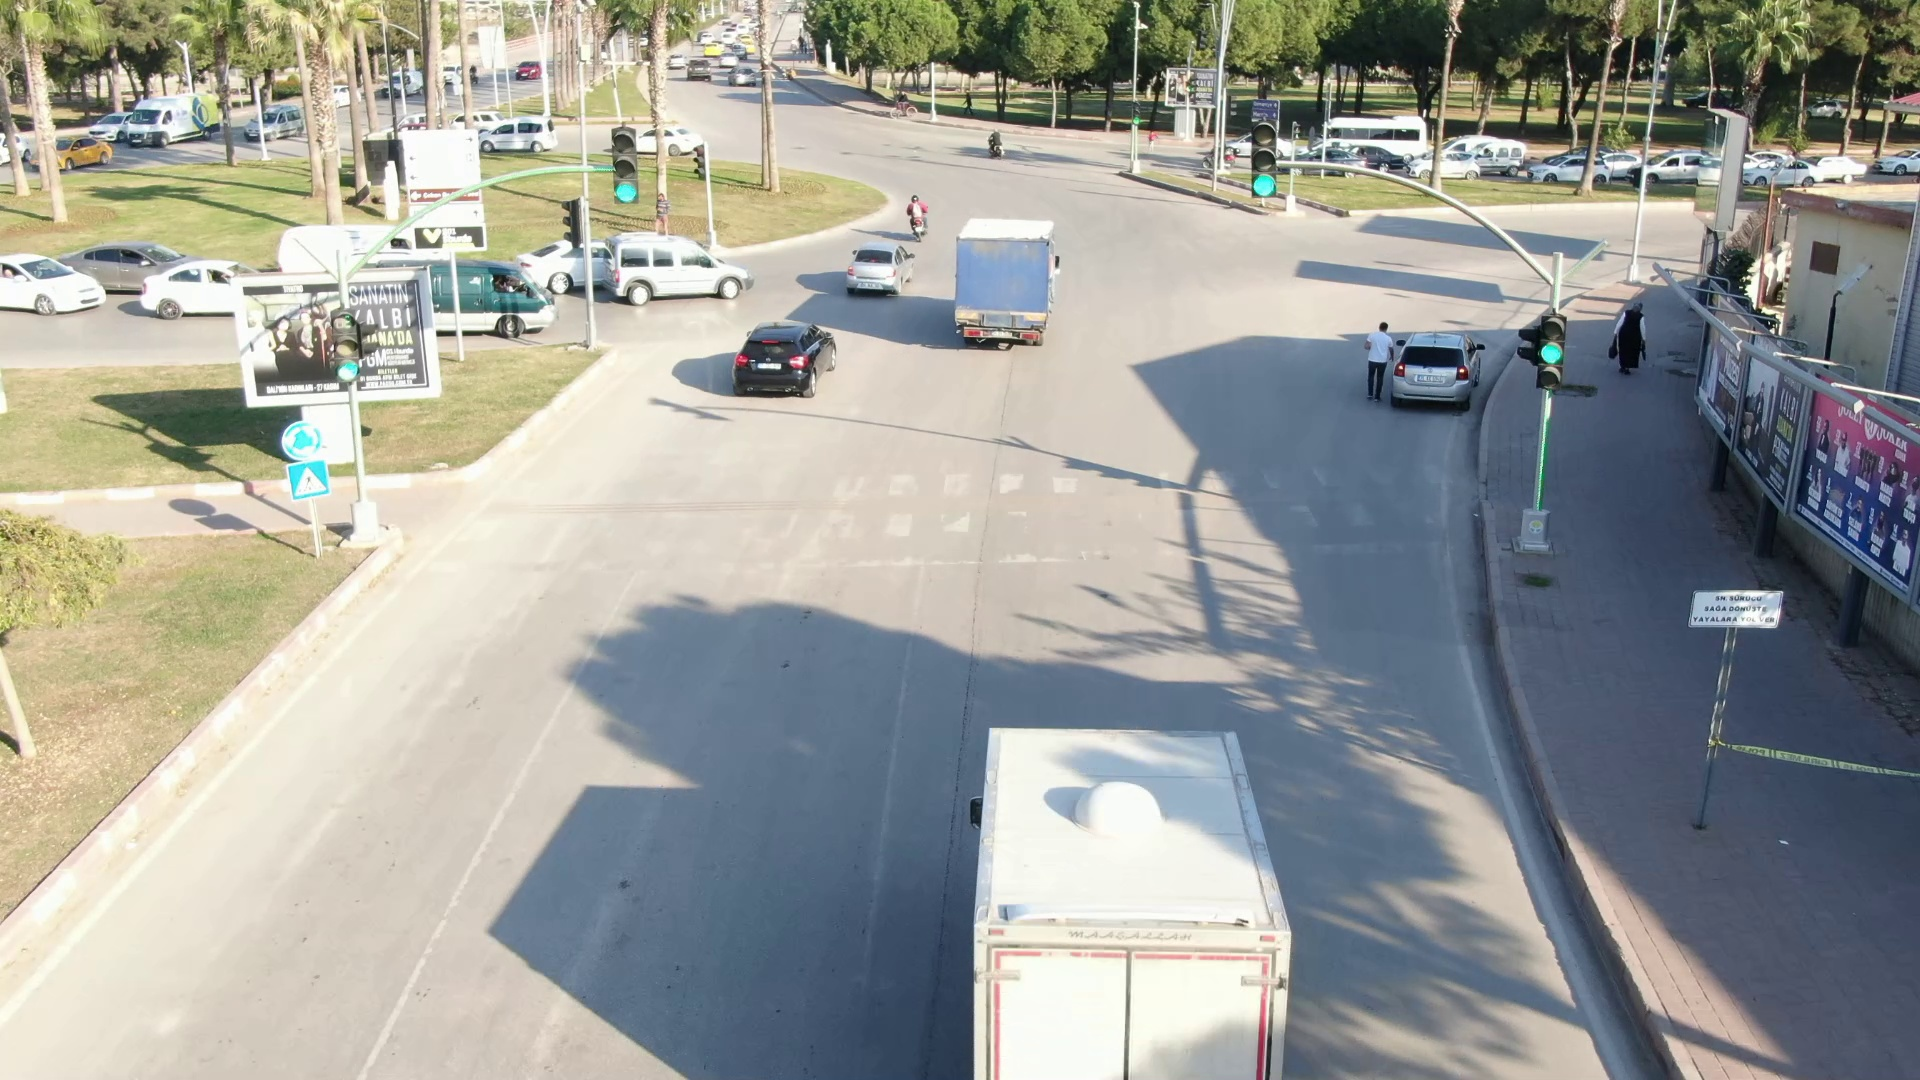car: (598, 223, 759, 307), (729, 314, 847, 405), (1390, 319, 1493, 415), (1, 246, 112, 320), (833, 231, 924, 299), (477, 107, 559, 155)
person: (1606, 293, 1655, 381), (1353, 310, 1398, 401)
